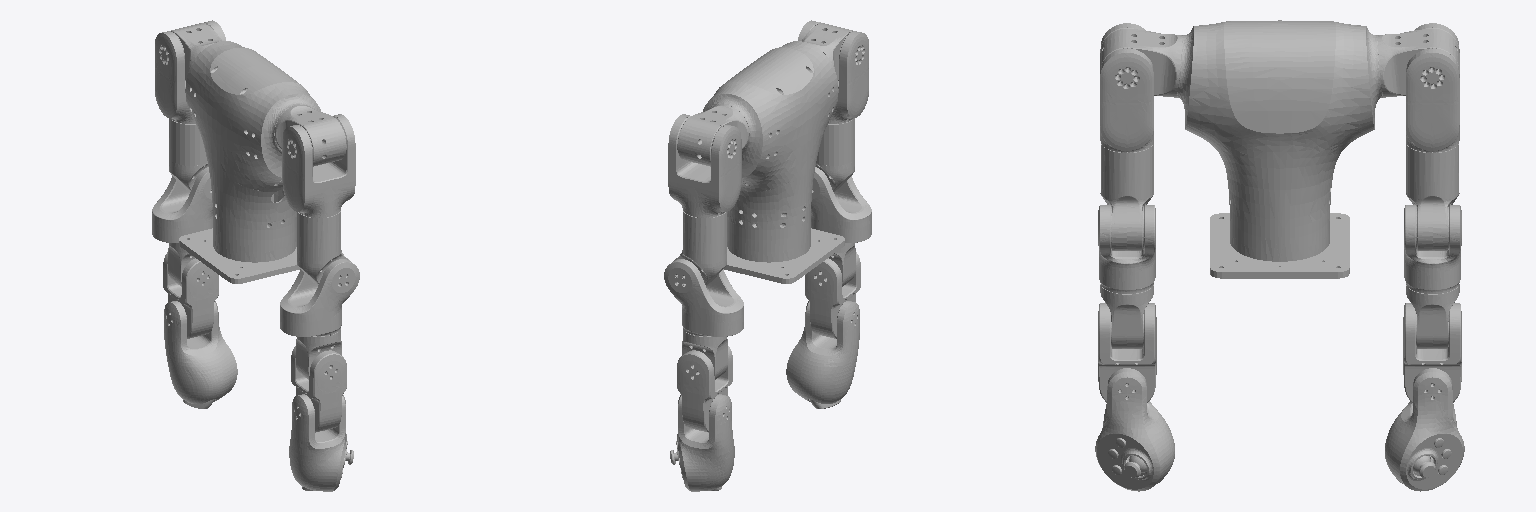
URDF robot description (servoarm):
<?xml version='1.0' encoding='utf-8'?>
<robot name="servoarm">
  <link name="base">
    <inertial>
      <origin xyz="-3e-06 0.0 0.012053" rpy="0 0 0" />
      <mass value="0.523832" />
      <inertia ixx="0.000433" ixy="0.0" ixz="0.0" iyy="0.000433" iyz="0.0" izz="0.000771" />
    </inertial>
    <visual>
      <origin xyz="0 0 0" rpy="0 0 0" />
      <geometry>
        <mesh filename="package://servoarm/meshes/base.STL" />
      </geometry>
      <material name="">
        <color rgba="0.75294 0.75294 0.75294 1" />
      </material>
    </visual>
    <collision>
      <origin xyz="0 0 0" rpy="0 0 0" />
      <geometry>
        <mesh filename="package://servoarm/meshes/base.STL" />
      </geometry>
    </collision>
  </link>
  <link name="waist_yaw_link">
    <inertial>
      <origin xyz="-0.001664 0.001612 0.08713" rpy="0 0 0" />
      <mass value="0.530226" />
      <inertia ixx="0.002854" ixy="-2e-06" ixz="7e-06" iyy="0.001864" iyz="6.3e-05" izz="0.001481" />
    </inertial>
    <visual>
      <origin xyz="0 0 0" rpy="0 0 0" />
      <geometry>
        <mesh filename="package://servoarm/meshes/waist_yaw_link.STL" />
      </geometry>
      <material name="">
        <color rgba="0.75294 0.75294 0.75294 1" />
      </material>
    </visual>
    <collision>
      <origin xyz="0 0 0" rpy="0 0 0" />
      <geometry>
        <mesh filename="package://servoarm/meshes/waist_yaw_link.STL" />
      </geometry>
    </collision>
  </link>
  <joint name="waist_yaw_joint" type="revolute">
    <origin xyz="0 0 0.036" rpy="0 0 0" />
    <parent link="base" />
    <child link="waist_yaw_link" />
    <axis xyz="0 0 1" />
    <limit lower="-6.283185307179586" upper="6.283185307179586" effort="0.0" velocity="0.0" />
  </joint>
  <link name="shoulder_pitch_l_link">
    <inertial>
      <origin xyz="-0.000303 0.040626 -0.000143" rpy="0 0 0" />
      <mass value="0.11577" />
      <inertia ixx="4.8e-05" ixy="0.0" ixz="0.0" iyy="2.8e-05" iyz="0.0" izz="4.9e-05" />
    </inertial>
    <visual>
      <origin xyz="0 0 0" rpy="0 0 0" />
      <geometry>
        <mesh filename="package://servoarm/meshes/shoulder_pitch_l_link.STL" />
      </geometry>
      <material name="">
        <color rgba="0.752941176470588 0.752941176470588 0.752941176470588 1" />
      </material>
    </visual>
    <collision>
      <origin xyz="0 0 0" rpy="0 0 0" />
      <geometry>
        <mesh filename="package://servoarm/meshes/shoulder_pitch_l_link.STL" />
      </geometry>
    </collision>
  </link>
  <joint name="shoulder_pitch_l_joint" type="revolute">
    <origin xyz="0 0.076852 0.13628" rpy="0.087266 0 0" />
    <parent link="waist_yaw_link" />
    <child link="shoulder_pitch_l_link" />
    <axis xyz="0 1 0" />
    <limit lower="-2.9670597283903604" upper="2.9670597283903604" effort="0.0" velocity="0.0" />
  </joint>
  <link name="shoulder_roll_l_link">
    <inertial>
      <origin xyz="-0.001998 2e-06 -0.040453" rpy="0 0 0" />
      <mass value="0.081127" />
      <inertia ixx="7.3e-05" ixy="0.0" ixz="-3e-06" iyy="9.5e-05" iyz="0.0" izz="4.7e-05" />
    </inertial>
    <visual>
      <origin xyz="0 0 0" rpy="0 0 0" />
      <geometry>
        <mesh filename="package://servoarm/meshes/shoulder_roll_l_link.STL" />
      </geometry>
      <material name="">
        <color rgba="0.752941176470588 0.752941176470588 0.752941176470588 1" />
      </material>
    </visual>
    <collision>
      <origin xyz="0 0 0" rpy="0 0 0" />
      <geometry>
        <mesh filename="package://servoarm/meshes/shoulder_roll_l_link.STL" />
      </geometry>
    </collision>
  </link>
  <joint name="shoulder_roll_l_joint" type="revolute">
    <origin xyz="0 0.0545 0" rpy="-0.087266 0 0" />
    <parent link="shoulder_pitch_l_link" />
    <child link="shoulder_roll_l_link" />
    <axis xyz="1 0 0" />
    <limit lower="-0.2617993877991494" upper="2.6179938779914944" effort="0.0" velocity="0.0" />
  </joint>
  <link name="shoulder_yaw_l_link">
    <inertial>
      <origin xyz="0.00623 -8.1e-05 -0.057357" rpy="0 0 0" />
      <mass value="0.056269" />
      <inertia ixx="4.9e-05" ixy="0.0" ixz="9e-06" iyy="5.3e-05" iyz="0.0" izz="1.9e-05" />
    </inertial>
    <visual>
      <origin xyz="0 0 0" rpy="0 0 0" />
      <geometry>
        <mesh filename="package://servoarm/meshes/shoulder_yaw_l_link.STL" />
      </geometry>
      <material name="">
        <color rgba="0.752941176470588 0.752941176470588 0.752941176470588 1" />
      </material>
    </visual>
    <collision>
      <origin xyz="0 0 0" rpy="0 0 0" />
      <geometry>
        <mesh filename="package://servoarm/meshes/shoulder_yaw_l_link.STL" />
      </geometry>
    </collision>
  </link>
  <joint name="shoulder_yaw_l_joint" type="revolute">
    <origin xyz="0 0 -0.07" rpy="0 0 0" />
    <parent link="shoulder_roll_l_link" />
    <child link="shoulder_yaw_l_link" />
    <axis xyz="0 0 1" />
    <limit lower="-2.9670597283903604" upper="2.9670597283903604" effort="0.0" velocity="0.0" />
  </joint>
  <link name="elbow_pitch_l_link">
    <inertial>
      <origin xyz="-0.018216 -7e-06 -0.032379" rpy="0 0 0" />
      <mass value="0.059756" />
      <inertia ixx="3.7e-05" ixy="0.0" ixz="-8e-06" iyy="4.3e-05" iyz="0.0" izz="3.2e-05" />
    </inertial>
    <visual>
      <origin xyz="0 0 0" rpy="0 0 0" />
      <geometry>
        <mesh filename="package://servoarm/meshes/elbow_pitch_l_link.STL" />
      </geometry>
      <material name="">
        <color rgba="0.752941176470588 0.752941176470588 0.752941176470588 1" />
      </material>
    </visual>
    <collision>
      <origin xyz="0 0 0" rpy="0 0 0" />
      <geometry>
        <mesh filename="package://servoarm/meshes/elbow_pitch_l_link.STL" />
      </geometry>
    </collision>
  </link>
  <joint name="elbow_pitch_l_joint" type="revolute">
    <origin xyz="0.015 0 -0.08" rpy="0 0 0" />
    <parent link="shoulder_yaw_l_link" />
    <child link="elbow_pitch_l_link" />
    <axis xyz="0 1 0" />
    <limit lower="-2.6179938779914944" upper="0.2617993877991494" effort="0.0" velocity="0.0" />
  </joint>
  <link name="elbow_yaw_l_link">
    <inertial>
      <origin xyz="2.1e-05 7.8e-05 -0.032027" rpy="0 0 0" />
      <mass value="0.043144" />
      <inertia ixx="1.7e-05" ixy="0.0" ixz="0.0" iyy="1.7e-05" iyz="0.0" izz="1e-05" />
    </inertial>
    <visual>
      <origin xyz="0 0 0" rpy="0 0 0" />
      <geometry>
        <mesh filename="package://servoarm/meshes/elbow_yaw_l_link.STL" />
      </geometry>
      <material name="">
        <color rgba="0.752941176470588 0.752941176470588 0.752941176470588 1" />
      </material>
    </visual>
    <collision>
      <origin xyz="0 0 0" rpy="0 0 0" />
      <geometry>
        <mesh filename="package://servoarm/meshes/elbow_yaw_l_link.STL" />
      </geometry>
    </collision>
  </link>
  <joint name="elbow_yaw_l_joint" type="revolute">
    <origin xyz="-0.015 0 -0.0567" rpy="0 0 0" />
    <parent link="elbow_pitch_l_link" />
    <child link="elbow_yaw_l_link" />
    <axis xyz="0 0 1" />
    <limit lower="-2.9670597283903604" upper="2.9670597283903604" effort="0.0" velocity="0.0" />
  </joint>
  <link name="wrist_pitch_l_link">
    <inertial>
      <origin xyz="9.3e-05 -4e-05 -0.033114" rpy="0 0 0" />
      <mass value="0.054009" />
      <inertia ixx="4e-05" ixy="0.0" ixz="0.0" iyy="3.5e-05" iyz="0.0" izz="1.8e-05" />
    </inertial>
    <visual>
      <origin xyz="0 0 0" rpy="0 0 0" />
      <geometry>
        <mesh filename="package://servoarm/meshes/wrist_pitch_l_link.STL" />
      </geometry>
      <material name="">
        <color rgba="0.752941176470588 0.752941176470588 0.752941176470588 1" />
      </material>
    </visual>
    <collision>
      <origin xyz="0 0 0" rpy="0 0 0" />
      <geometry>
        <mesh filename="package://servoarm/meshes/wrist_pitch_l_link.STL" />
      </geometry>
    </collision>
  </link>
  <joint name="wrist_pitch_l_joint" type="revolute">
    <origin xyz="0 0 -0.0433" rpy="0 0 0" />
    <parent link="elbow_yaw_l_link" />
    <child link="wrist_pitch_l_link" />
    <axis xyz="0 1 0" />
    <limit lower="-1.5707963267948966" upper="1.5707963267948966" effort="0.0" velocity="0.0" />
  </joint>
  <link name="wrist_roll_l_link">
    <inertial>
      <origin xyz="0.005776 -0.007502 -0.052596" rpy="0 0 0" />
      <mass value="0.066999" />
      <inertia ixx="7.4e-05" ixy="1e-06" ixz="5e-06" iyy="8.1e-05" iyz="-9e-06" izz="3.9e-05" />
    </inertial>
    <visual>
      <origin xyz="0 0 0" rpy="0 0 0" />
      <geometry>
        <mesh filename="package://servoarm/meshes/wrist_roll_l_link.STL" />
      </geometry>
      <material name="">
        <color rgba="0.752941176470588 0.752941176470588 0.752941176470588 1" />
      </material>
    </visual>
    <collision>
      <origin xyz="0 0 0" rpy="0 0 0" />
      <geometry>
        <mesh filename="package://servoarm/meshes/wrist_roll_l_link.STL" />
      </geometry>
    </collision>
  </link>
  <joint name="wrist_roll_l_joint" type="revolute">
    <origin xyz="0 0 -0.05" rpy="0 -0.00041587 0" />
    <parent link="wrist_pitch_l_link" />
    <child link="wrist_roll_l_link" />
    <axis xyz="1 0 0" />
    <limit lower="-2.0943951023931953" upper="2.0943951023931953" effort="0.0" velocity="0.0" />
  </joint>
  <link name="shoulder_pitch_r_link">
    <inertial>
      <origin xyz="-0.000303 -0.040626 -0.000143" rpy="0 0 0" />
      <mass value="0.11577" />
      <inertia ixx="4.8e-05" ixy="0.0" ixz="0.0" iyy="2.8e-05" iyz="0.0" izz="4.9e-05" />
    </inertial>
    <visual>
      <origin xyz="0 0 0" rpy="0 0 0" />
      <geometry>
        <mesh filename="package://servoarm/meshes/shoulder_pitch_r_link.STL" />
      </geometry>
      <material name="">
        <color rgba="0.752941176470588 0.752941176470588 0.752941176470588 1" />
      </material>
    </visual>
    <collision>
      <origin xyz="0 0 0" rpy="0 0 0" />
      <geometry>
        <mesh filename="package://servoarm/meshes/shoulder_pitch_r_link.STL" />
      </geometry>
    </collision>
  </link>
  <joint name="shoulder_pitch_r_joint" type="revolute">
    <origin xyz="0 -0.076852 0.13628" rpy="-0.087266 0 0" />
    <parent link="waist_yaw_link" />
    <child link="shoulder_pitch_r_link" />
    <axis xyz="0 1 0" />
    <limit lower="-2.9670597283903604" upper="2.9670597283903604" effort="0.0" velocity="0.0" />
  </joint>
  <link name="shoulder_roll_r_link">
    <inertial>
      <origin xyz="-0.00208 0.0 -0.041542" rpy="0 0 0" />
      <mass value="0.078102" />
      <inertia ixx="6.6e-05" ixy="0.0" ixz="-2e-06" iyy="8.5e-05" iyz="0.0" izz="4.1e-05" />
    </inertial>
    <visual>
      <origin xyz="0 0 0" rpy="0 0 0" />
      <geometry>
        <mesh filename="package://servoarm/meshes/shoulder_roll_r_link.STL" />
      </geometry>
      <material name="">
        <color rgba="0.752941176470588 0.752941176470588 0.752941176470588 1" />
      </material>
    </visual>
    <collision>
      <origin xyz="0 0 0" rpy="0 0 0" />
      <geometry>
        <mesh filename="package://servoarm/meshes/shoulder_roll_r_link.STL" />
      </geometry>
    </collision>
  </link>
  <joint name="shoulder_roll_r_joint" type="revolute">
    <origin xyz="0 -0.0545 0" rpy="0.087266 0 0" />
    <parent link="shoulder_pitch_r_link" />
    <child link="shoulder_roll_r_link" />
    <axis xyz="1 0 0" />
    <limit lower="-2.6179938779914944" upper="0.2617993877991494" effort="0.0" velocity="0.0" />
  </joint>
  <link name="shoulder_yaw_r_link">
    <inertial>
      <origin xyz="0.006229 8.1e-05 -0.057357" rpy="0 0 0" />
      <mass value="0.056269" />
      <inertia ixx="4.6e-05" ixy="0.0" ixz="8e-06" iyy="4.9e-05" iyz="0.0" izz="1.6e-05" />
    </inertial>
    <visual>
      <origin xyz="0 0 0" rpy="0 0 0" />
      <geometry>
        <mesh filename="package://servoarm/meshes/shoulder_yaw_r_link.STL" />
      </geometry>
      <material name="">
        <color rgba="0.752941176470588 0.752941176470588 0.752941176470588 1" />
      </material>
    </visual>
    <collision>
      <origin xyz="0 0 0" rpy="0 0 0" />
      <geometry>
        <mesh filename="package://servoarm/meshes/shoulder_yaw_r_link.STL" />
      </geometry>
    </collision>
  </link>
  <joint name="shoulder_yaw_r_joint" type="revolute">
    <origin xyz="0 0 -0.07" rpy="0 0 0" />
    <parent link="shoulder_roll_r_link" />
    <child link="shoulder_yaw_r_link" />
    <axis xyz="0 0 1" />
    <limit lower="-2.9670597283903604" upper="2.9670597283903604" effort="0.0" velocity="0.0" />
  </joint>
  <link name="elbow_pitch_r_link">
    <inertial>
      <origin xyz="0.059758 5e-06 -0.032379" rpy="0 0 0" />
      <mass value="0.059758" />
      <inertia ixx="3.4e-05" ixy="0.0" ixz="-8e-06" iyy="3.9e-05" iyz="0.0" izz="2.8e-05" />
    </inertial>
    <visual>
      <origin xyz="0 0 0" rpy="0 0 0" />
      <geometry>
        <mesh filename="package://servoarm/meshes/elbow_pitch_r_link.STL" />
      </geometry>
      <material name="">
        <color rgba="0.752941176470588 0.752941176470588 0.752941176470588 1" />
      </material>
    </visual>
    <collision>
      <origin xyz="0 0 0" rpy="0 0 0" />
      <geometry>
        <mesh filename="package://servoarm/meshes/elbow_pitch_r_link.STL" />
      </geometry>
    </collision>
  </link>
  <joint name="elbow_pitch_r_joint" type="revolute">
    <origin xyz="0.015 0 -0.08" rpy="0 0 0" />
    <parent link="shoulder_yaw_r_link" />
    <child link="elbow_pitch_r_link" />
    <axis xyz="0 1 0" />
    <limit lower="-2.6179938779914944" upper="0.2617993877991494" effort="0.0" velocity="0.0" />
  </joint>
  <link name="elbow_yaw_r_link">
    <inertial>
      <origin xyz="2.1e-05 -7.8e-05 -0.032027" rpy="0 0 0" />
      <mass value="0.043144" />
      <inertia ixx="1.3e-05" ixy="0.0" ixz="0.0" iyy="1.3e-05" iyz="0.0" izz="7e-06" />
    </inertial>
    <visual>
      <origin xyz="0 0 0" rpy="0 0 0" />
      <geometry>
        <mesh filename="package://servoarm/meshes/elbow_yaw_r_link.STL" />
      </geometry>
      <material name="">
        <color rgba="0.752941176470588 0.752941176470588 0.752941176470588 1" />
      </material>
    </visual>
    <collision>
      <origin xyz="0 0 0" rpy="0 0 0" />
      <geometry>
        <mesh filename="package://servoarm/meshes/elbow_yaw_r_link.STL" />
      </geometry>
    </collision>
  </link>
  <joint name="elbow_yaw_r_joint" type="revolute">
    <origin xyz="-0.015 0 -0.0567" rpy="0 0 0" />
    <parent link="elbow_pitch_r_link" />
    <child link="elbow_yaw_r_link" />
    <axis xyz="0 0 1" />
    <limit lower="-2.9670597283903604" upper="2.9670597283903604" effort="0.0" velocity="0.0" />
  </joint>
  <link name="wrist_pitch_r_link">
    <inertial>
      <origin xyz="9.2e-05 4e-05 -0.033114" rpy="0 0 0" />
      <mass value="0.054007" />
      <inertia ixx="3.7e-05" ixy="0.0" ixz="0.0" iyy="3e-05" iyz="0.0" izz="1.6e-05" />
    </inertial>
    <visual>
      <origin xyz="0 0 0" rpy="0 0 0" />
      <geometry>
        <mesh filename="package://servoarm/meshes/wrist_pitch_r_link.STL" />
      </geometry>
      <material name="">
        <color rgba="0.752941176470588 0.752941176470588 0.752941176470588 1" />
      </material>
    </visual>
    <collision>
      <origin xyz="0 0 0" rpy="0 0 0" />
      <geometry>
        <mesh filename="package://servoarm/meshes/wrist_pitch_r_link.STL" />
      </geometry>
    </collision>
  </link>
  <joint name="wrist_pitch_r_joint" type="revolute">
    <origin xyz="0 0 -0.0433" rpy="0 0 0" />
    <parent link="elbow_yaw_r_link" />
    <child link="wrist_pitch_r_link" />
    <axis xyz="0 1 0" />
    <limit lower="-1.5707963267948966" upper="1.5707963267948966" effort="0.0" velocity="0.0" />
  </joint>
  <link name="wrist_roll_r_link">
    <inertial>
      <origin xyz="0.005776 0.007504 -0.052597" rpy="0 0 0" />
      <mass value="0.066996" />
      <inertia ixx="7.4e-05" ixy="-1e-06" ixz="5e-06" iyy="8.1e-05" iyz="9e-06" izz="3.9e-05" />
    </inertial>
    <visual>
      <origin xyz="0 0 0" rpy="0 0 0" />
      <geometry>
        <mesh filename="package://servoarm/meshes/wrist_roll_r_link.STL" />
      </geometry>
      <material name="">
        <color rgba="0.752941176470588 0.752941176470588 0.752941176470588 1" />
      </material>
    </visual>
    <collision>
      <origin xyz="0 0 0" rpy="0 0 0" />
      <geometry>
        <mesh filename="package://servoarm/meshes/wrist_roll_r_link.STL" />
      </geometry>
    </collision>
  </link>
  <joint name="wrist_roll_r_joint" type="revolute">
    <origin xyz="0 0 -0.05" rpy="0 -0.00041587 0" />
    <parent link="wrist_pitch_r_link" />
    <child link="wrist_roll_r_link" />
    <axis xyz="1 0 0" />
    <limit lower="-2.0943951023931953" upper="2.0943951023931953" effort="0.0" velocity="0.0" />
  </joint>
</robot>

--- What the picture shows (computed from the rendered views, not written in the file) ---
Views: 3 orthographic renders of the robot side by side, from view 1: azimuth 30°, elevation 25°; view 2: azimuth 150°, elevation 25°; view 3: azimuth 270°, elevation 25°.
Model servoarm with 16 links and 15 joints (15 revolute), rooted at base, posed all joints at 0.
Links seen in each view (by area): view 1: waist_yaw_link, wrist_roll_l_link, shoulder_roll_r_link, wrist_roll_r_link, elbow_pitch_r_link, elbow_pitch_l_link, wrist_pitch_r_link, shoulder_roll_l_link, wrist_pitch_l_link, base, shoulder_yaw_r_link, shoulder_pitch_r_link (+4 smaller); view 2: waist_yaw_link, wrist_roll_r_link, shoulder_roll_l_link, elbow_pitch_l_link, wrist_roll_l_link, elbow_pitch_r_link, wrist_pitch_l_link, shoulder_roll_r_link, wrist_pitch_r_link, base, shoulder_yaw_l_link, shoulder_pitch_l_link (+4 smaller); view 3: waist_yaw_link, wrist_roll_r_link, wrist_roll_l_link, shoulder_roll_r_link, shoulder_roll_l_link, base, shoulder_yaw_l_link, shoulder_yaw_r_link, elbow_pitch_l_link, elbow_pitch_r_link, wrist_pitch_l_link, wrist_pitch_r_link (+4 smaller).
Boxes of the visible links, bbox=[...] form: waist_yaw_link: bbox=[185, 41, 320, 262]; wrist_roll_l_link: bbox=[164, 301, 237, 408]; shoulder_roll_r_link: bbox=[282, 114, 355, 217]; wrist_roll_r_link: bbox=[289, 394, 353, 491]; elbow_pitch_r_link: bbox=[280, 259, 359, 336]; elbow_pitch_l_link: bbox=[152, 167, 212, 242]; wrist_pitch_r_link: bbox=[291, 346, 346, 432]; shoulder_roll_l_link: bbox=[155, 20, 225, 123]; wrist_pitch_l_link: bbox=[163, 252, 218, 338]; base: bbox=[179, 228, 299, 283]; shoulder_yaw_r_link: bbox=[297, 211, 349, 285]; shoulder_pitch_r_link: bbox=[275, 105, 346, 166]; waist_yaw_link: bbox=[703, 41, 838, 262]; wrist_roll_r_link: bbox=[786, 301, 859, 408]; shoulder_roll_l_link: bbox=[668, 114, 741, 217]; elbow_pitch_l_link: bbox=[664, 259, 743, 336]; wrist_roll_l_link: bbox=[670, 394, 734, 491]; elbow_pitch_r_link: bbox=[811, 167, 871, 242]; wrist_pitch_l_link: bbox=[677, 346, 732, 432]; shoulder_roll_r_link: bbox=[798, 20, 868, 123]; wrist_pitch_r_link: bbox=[805, 252, 860, 338]; base: bbox=[724, 228, 844, 283]; shoulder_yaw_l_link: bbox=[674, 211, 726, 285]; shoulder_pitch_l_link: bbox=[677, 105, 748, 166]; waist_yaw_link: bbox=[1177, 20, 1382, 261]; wrist_roll_r_link: bbox=[1095, 368, 1174, 491]; wrist_roll_l_link: bbox=[1385, 368, 1464, 491]; shoulder_roll_r_link: bbox=[1100, 23, 1153, 152]; shoulder_roll_l_link: bbox=[1406, 23, 1459, 152]; base: bbox=[1210, 213, 1349, 278]; shoulder_yaw_l_link: bbox=[1406, 144, 1459, 250]; shoulder_yaw_r_link: bbox=[1100, 144, 1153, 250]; elbow_pitch_l_link: bbox=[1404, 205, 1461, 293]; elbow_pitch_r_link: bbox=[1098, 205, 1155, 293]; wrist_pitch_l_link: bbox=[1403, 303, 1461, 402]; wrist_pitch_r_link: bbox=[1098, 303, 1156, 402].
Bounding box of the posed robot: 0.12 × 0.3172 × 0.4316 m (x, y, z).
16 mesh visuals loaded from 16 distinct referenced files (16 binary STL).
